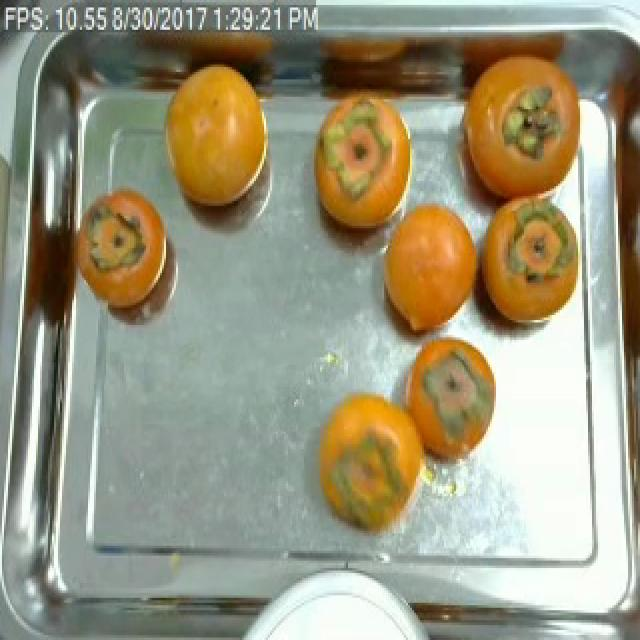Fruit: (304, 377, 446, 553), (146, 47, 286, 223), (300, 80, 428, 266), (370, 186, 490, 350), (462, 188, 582, 345), (78, 174, 188, 337), (396, 322, 508, 479)
